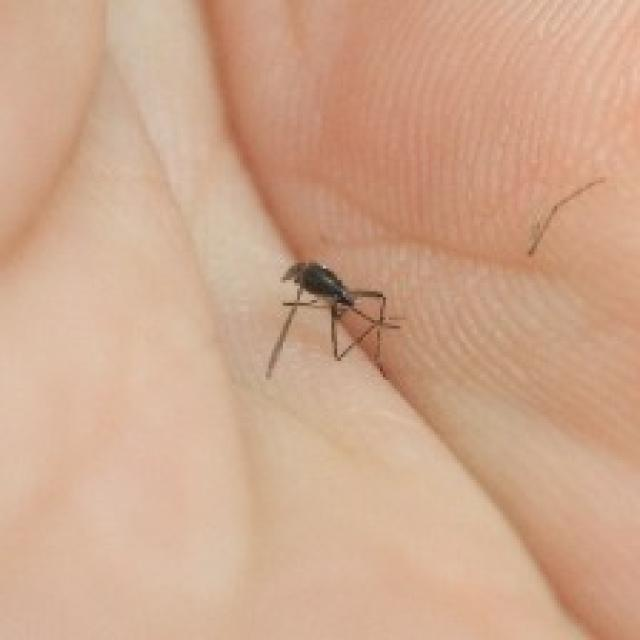aedes: (263, 257, 403, 380)
